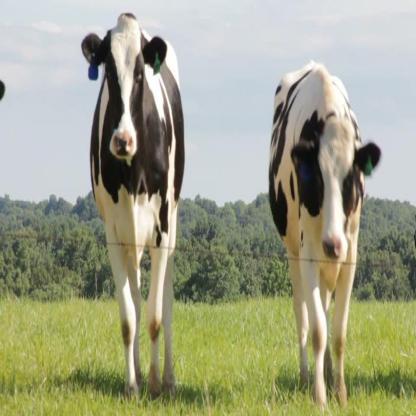cow: (81, 17, 185, 402), (268, 62, 383, 408)
